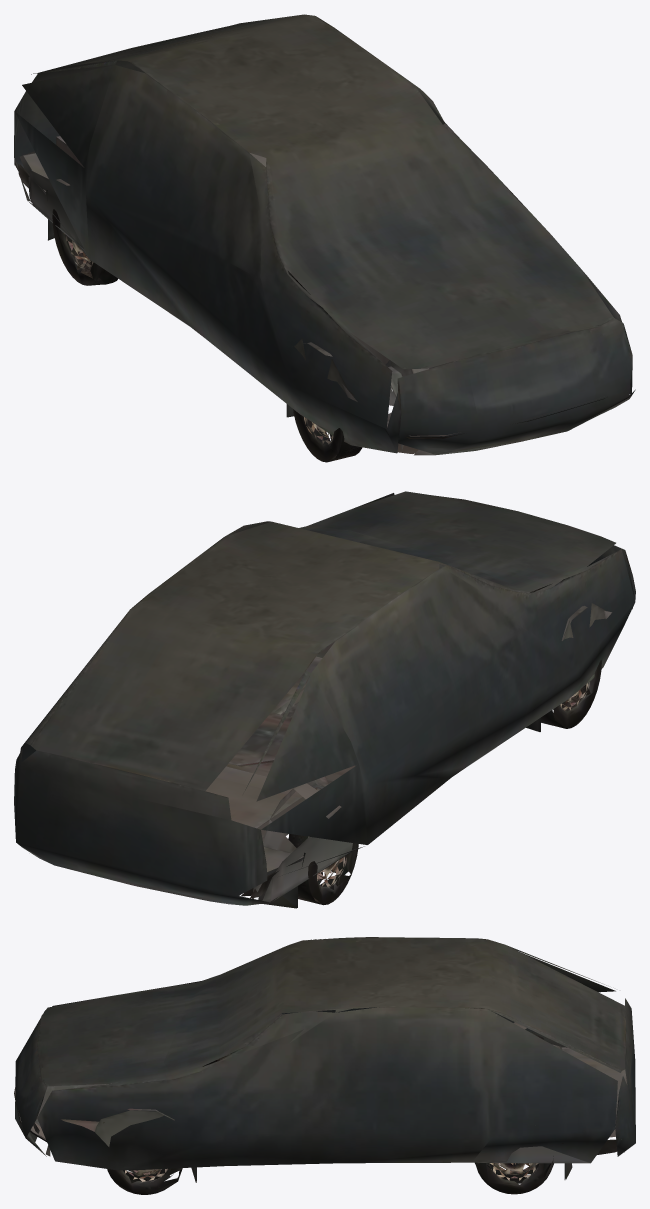
The model's file is covered_car.gltf.
3 renders of one model, top to bottom at view 1: azimuth 30°, elevation 25°; view 2: azimuth 150°, elevation 25°; view 3: azimuth 270°, elevation 25°, orthographic. The views are drawn at different scales.
Parts seen in each view (by area): view 1: covered_car, covered_car_wheel_03, covered_car_wheel_02; view 2: covered_car, covered_car_wheel_03, covered_car_wheel_02; view 3: covered_car, covered_car_wheel_04, covered_car_wheel_01.
Boxes of the visible parts, x1,y1,x2,y2 form: covered_car: [14, 14, 635, 455]; covered_car_wheel_03: [52, 209, 117, 285]; covered_car_wheel_02: [293, 409, 362, 462]; covered_car: [14, 491, 635, 908]; covered_car_wheel_03: [288, 834, 358, 905]; covered_car_wheel_02: [541, 660, 601, 728]; covered_car: [14, 937, 635, 1182]; covered_car_wheel_04: [475, 1156, 553, 1194]; covered_car_wheel_01: [107, 1168, 182, 1194].
Bounding box in the file's own units: 1.78 × 1.35 × 4.34.
Materials: 2 (2 with a texture image).
